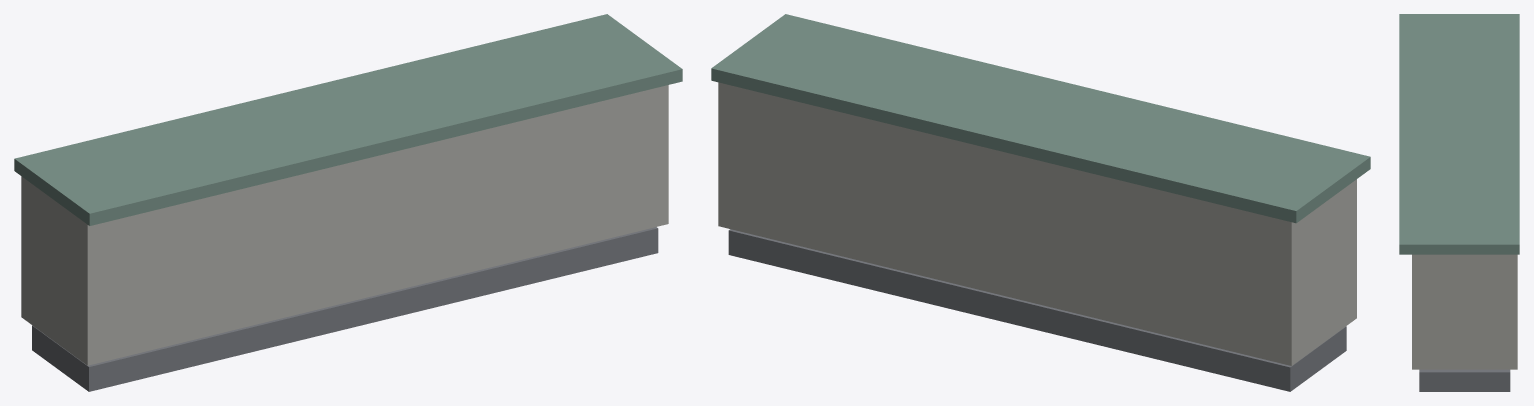
File: mov_d993b7d739.gltf
3 views of the same model, side by side, from view 1: azimuth 30°, elevation 25°; view 2: azimuth 150°, elevation 25°; view 3: azimuth 270°, elevation 25° (orthographic). The views are drawn at different scales.
Parts seen in each view (by area): view 1: mov_d993b7d739; view 2: mov_d993b7d739; view 3: mov_d993b7d739.
Part boxes in pixels (bbox=[...]): mov_d993b7d739: bbox=[14, 14, 682, 391]; mov_d993b7d739: bbox=[711, 14, 1370, 391]; mov_d993b7d739: bbox=[1399, 14, 1519, 391].
Bounding box in the file's own units: 3 × 0.92 × 0.66.
